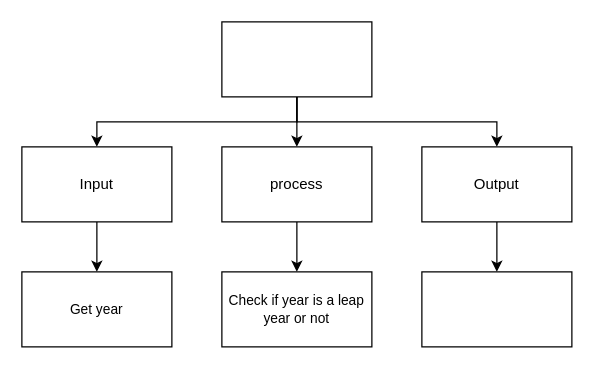
Some shapes in this 594 by 369 pixel diagram are drawn without their labels. The centre of each missing label's shape, as x and y in pixels:
"Leap year" belongs at point 296,59.
"Print answer" belongs at point 496,309.
